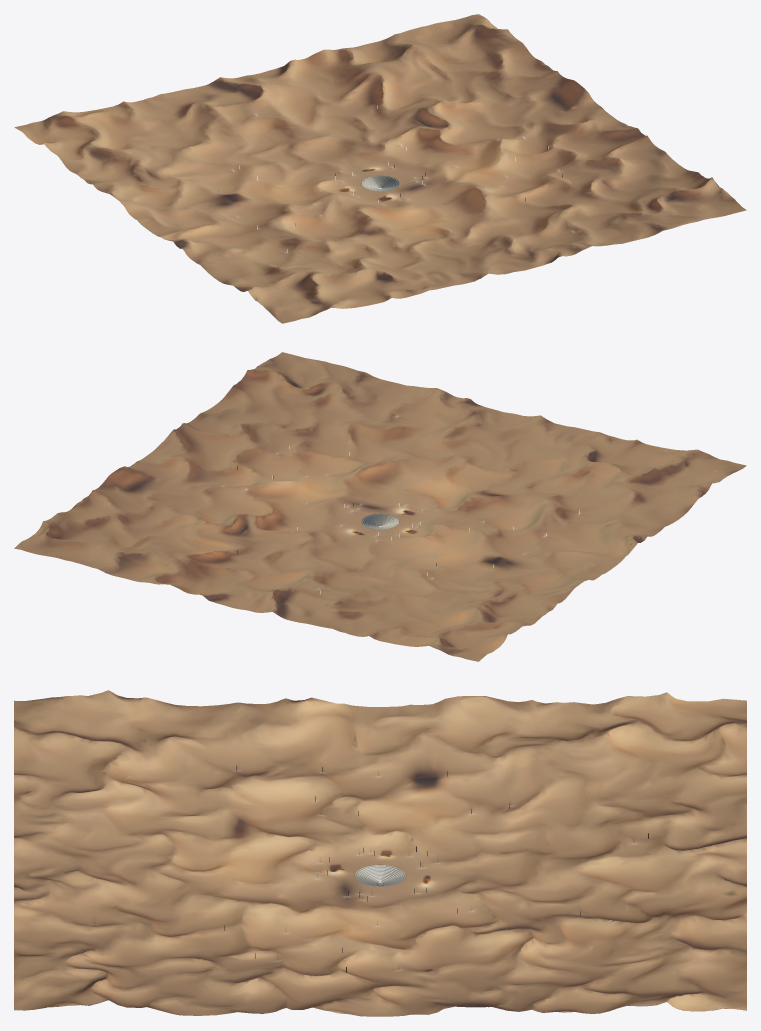
3 views of the same model, one above another, from view 1: azimuth 30°, elevation 25°; view 2: azimuth 150°, elevation 25°; view 3: azimuth 270°, elevation 25° (orthographic). The views are drawn at different scales.
Visible parts, largest first — view 1: bake; view 2: bake; view 3: bake.
Boxes of the visible parts, x1,y1,x2,y2 form: bake: [14, 14, 746, 323]; bake: [14, 352, 746, 661]; bake: [14, 690, 746, 1016].
Size of the model in its own units: 3002 by 168 by 3002.
4 materials, 2 textured.
